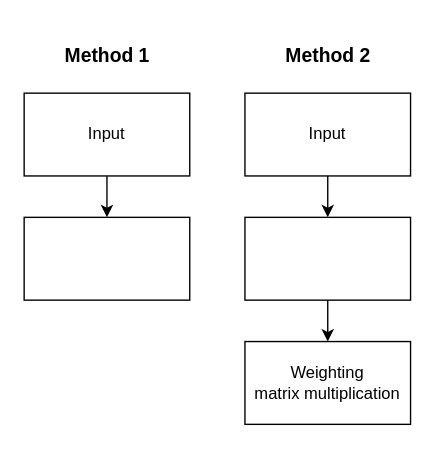
The diagram is 435 pixels wide and 449 high, and some of its shapes have lost their labels. The box of each missing label's shape, as (x1, y1, x2, y2) in pixels:
DFT: (244, 216, 411, 300)
Time-frequency atom matrix multiplication: (23, 216, 190, 300)
